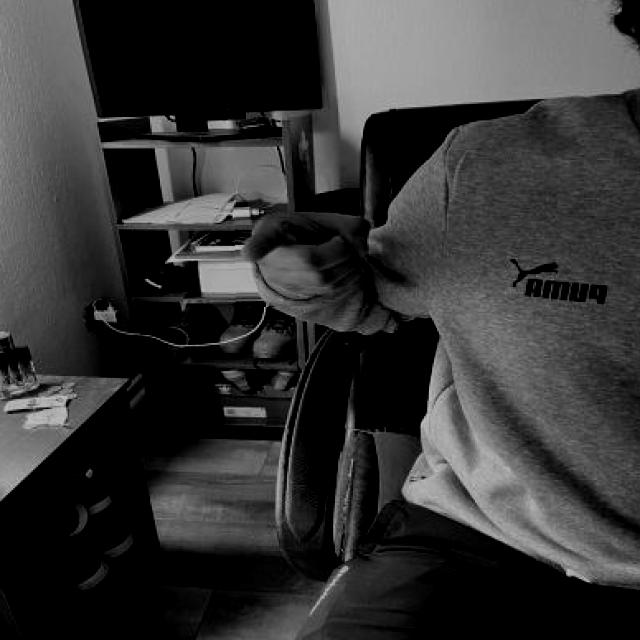X: (234, 197, 383, 308)
